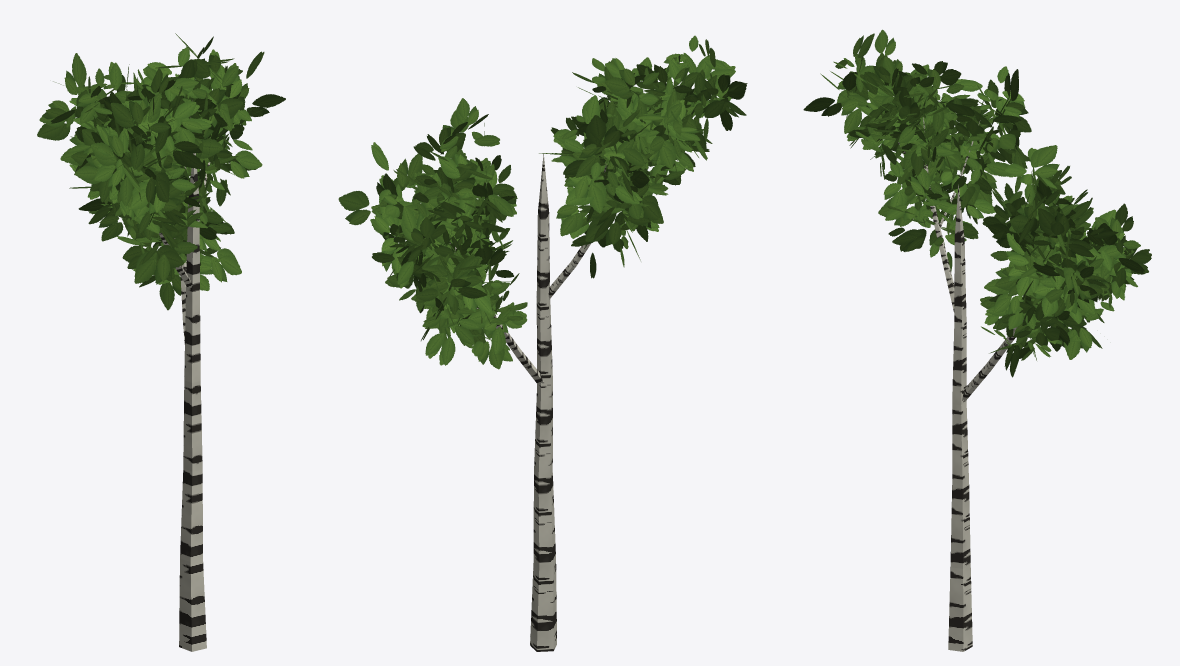
File: silver-birch.obj
The picture shows the model from 3 angles, left to right: view 1: azimuth 30°, elevation 25°; view 2: azimuth 150°, elevation 25°; view 3: azimuth 270°, elevation 25°; orthographic projection. The views are drawn at different scales.
Size of the model in its own units: 7.12 by 12.83 by 7.36.
Materials: 2 (2 with a texture image).
